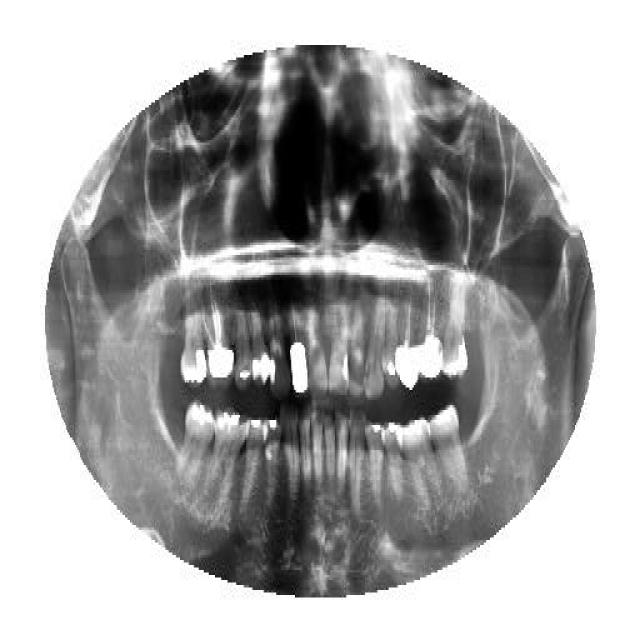Cavity: (205, 405, 249, 505), (269, 295, 291, 400), (265, 412, 283, 508)
Fillings: (205, 405, 249, 505), (180, 398, 214, 478), (442, 280, 468, 382), (244, 415, 268, 513), (180, 308, 208, 388), (381, 417, 405, 505), (269, 298, 290, 398), (329, 298, 349, 398), (250, 298, 270, 388), (234, 302, 254, 392), (365, 420, 384, 510), (264, 415, 282, 507), (384, 300, 400, 392)
Implant: (203, 282, 235, 388), (395, 288, 421, 392), (421, 270, 444, 380), (288, 298, 308, 398)
